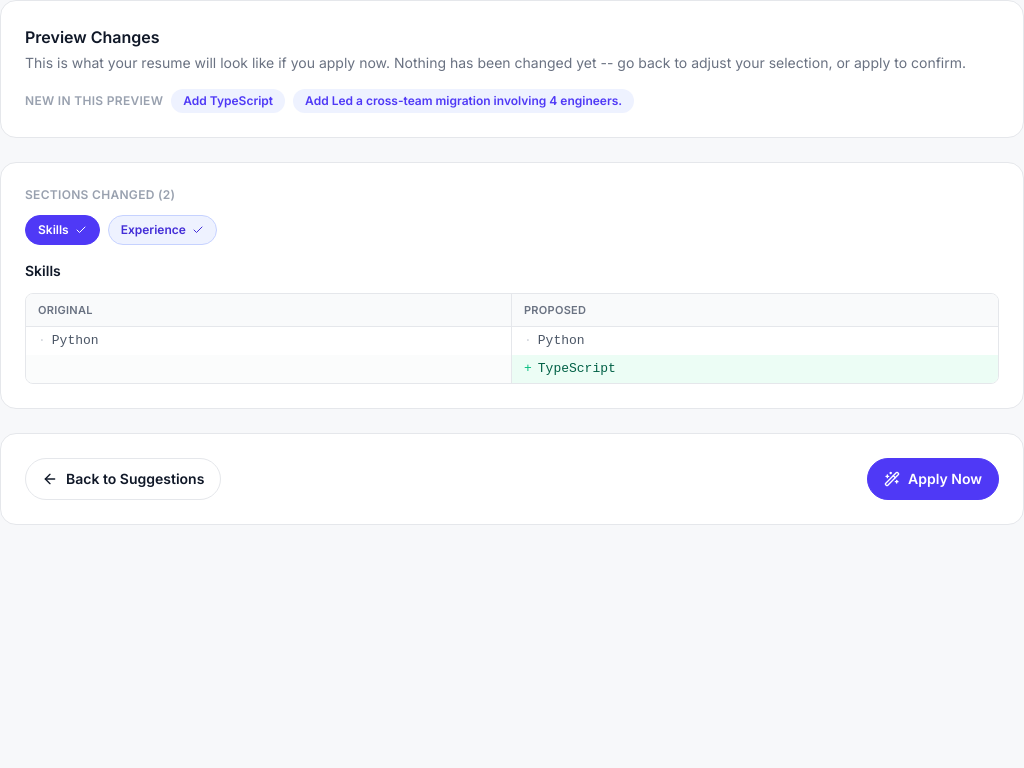
Test case: TailoringPreviewPanel › switches between sections, each showing only its own suggestions
Check: the heading "Skills" is shown, box [25,262,61,279]
Check: the text "TypeScript" is shown, box [538,361,616,376]
What coordinates should you click on to do the following:
click the button "Experience"
I would click on:
 (162, 230)
Its box is [108,215,217,245].
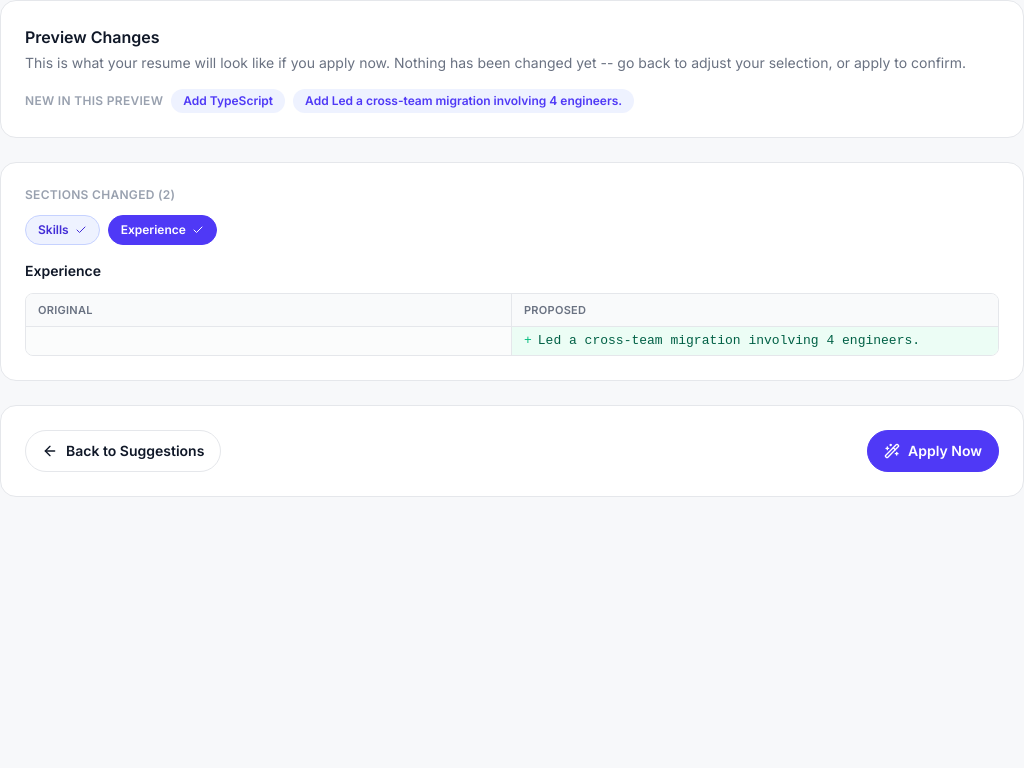
Check: the text "Add Led a cross-team migration involving 4 engineers." is shown, box [293,89,634,113]
Check: the heading "Experience" is shown, box [25,262,101,279]
